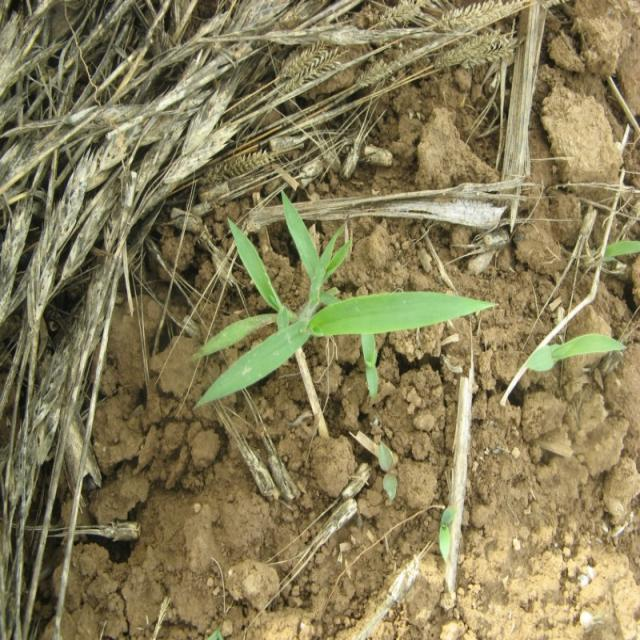bg: (191, 191, 491, 405)
